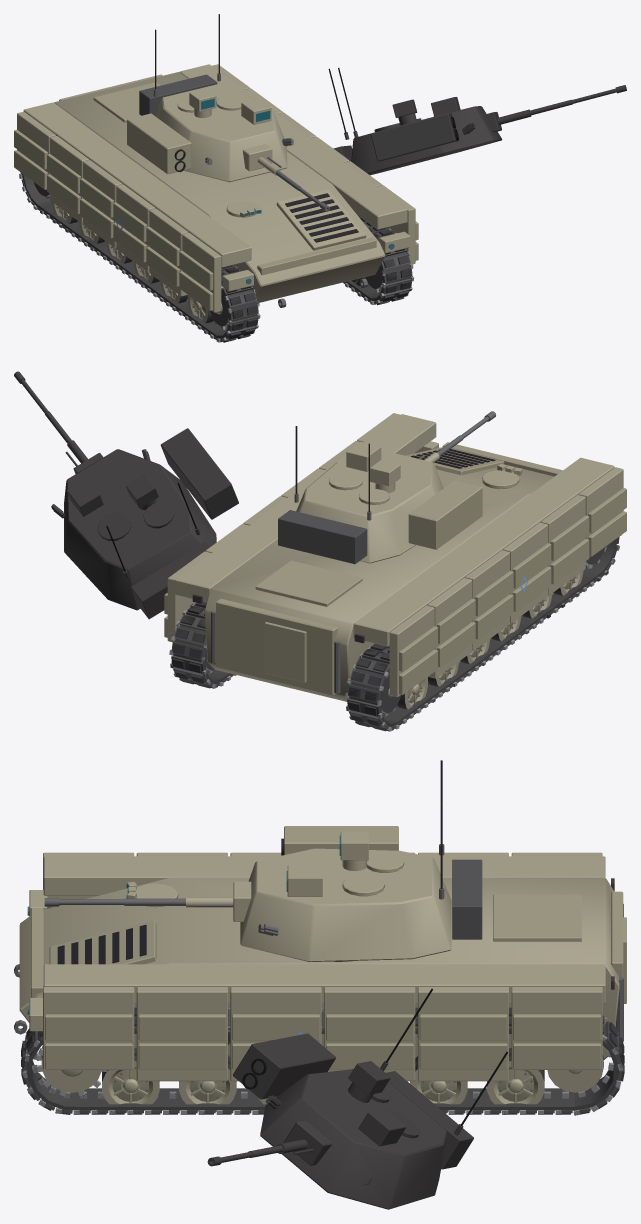
File: ifv__m2a4_bradley.glb
The picture shows the model from 3 angles, top to bottom: view 1: azimuth 30°, elevation 25°; view 2: azimuth 150°, elevation 25°; view 3: azimuth 270°, elevation 25°; orthographic projection. The views are drawn at different scales.
Parts seen in each view (by area): view 1: Hull_Mesh, Turret_Mesh, Wreck, Track_L_Mesh, Track_R_Mesh, Gun_Mesh; view 2: Hull_Mesh, Wreck, Turret_Mesh, Track_L_Mesh, Track_R_Mesh, Gun_Mesh, Wheel_L0_Mesh; view 3: Hull_Mesh, Wreck, Turret_Mesh, Track_R_Mesh, Gun_Mesh, Wheel_R0_Mesh, Wheel_R5_Mesh, Wheel_R4_Mesh, Sprocket_R_Mesh, Wheel_R1_Mesh, Idler_R_Mesh.
Part boxes in pixels (x1,y1,x2,y2): Hull_Mesh: (14,64,418,312); Turret_Mesh: (127,14,293,182); Wreck: (20,68,626,342); Track_L_Mesh: (19,172,260,342); Track_R_Mesh: (343,214,413,305); Gun_Mesh: (242,144,329,211); Hull_Mesh: (164,413,626,701); Wreck: (14,371,619,730); Turret_Mesh: (278,426,482,564); Track_L_Mesh: (345,535,621,731); Track_R_Mesh: (169,601,236,688); Gun_Mesh: (418,411,495,462); Wheel_L0_Mesh: (397,677,427,709); Hull_Mesh: (14,852,626,1081); Wreck: (21,907,624,1209); Turret_Mesh: (240,760,482,961); Track_R_Mesh: (21,1007,624,1115); Gun_Mesh: (44,881,251,921); Wheel_R0_Mesh: (487,1048,544,1112); Wheel_R5_Mesh: (102,1048,159,1112); Wheel_R4_Mesh: (179,1055,236,1111); Sprocket_R_Mesh: (36,1046,107,1096); Wheel_R1_Mesh: (410,1056,467,1111); Idler_R_Mesh: (547,1050,603,1092).
Size of what is drawn, in the model's own units: 8.8 by 3.49 by 6.92.
